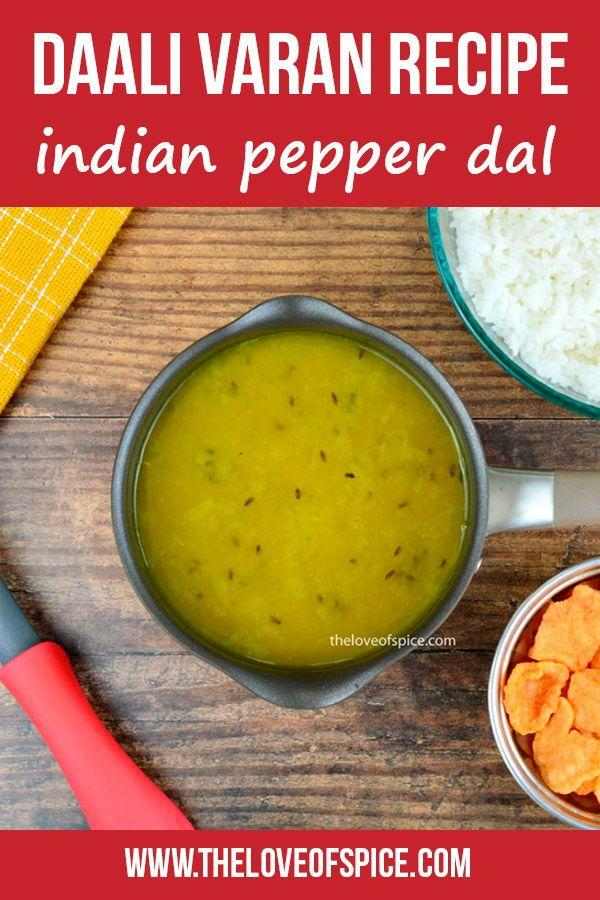varan: (151, 313, 462, 642)
